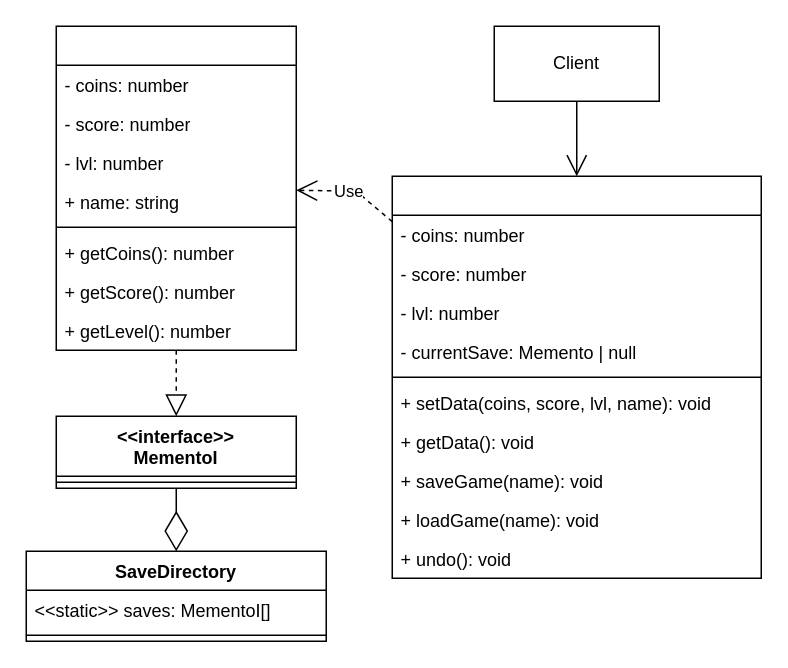
Image size: 788x668. Some labels were removed from this diagram. The shapes that lost their labels are listed below. From the top down, each one's box as (x1, y1, x2, y2) in pixels, then its label:
(55, 25, 296, 350): Memento
(391, 175, 761, 578): BrowserGame
